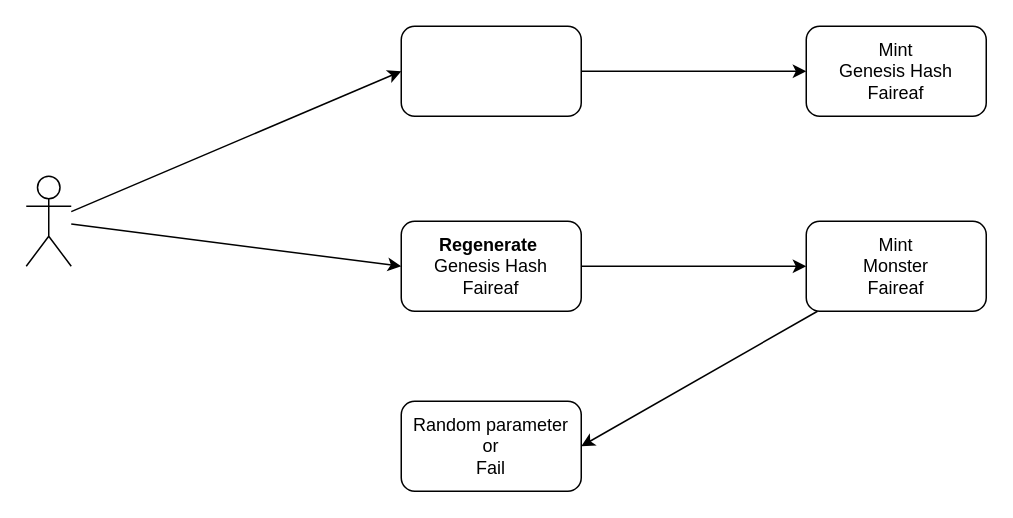
Image size: 1013x518. Some labels were removed from this diagram. Each missing label, with the centre of its shape:
"Actor" goes at pixel 48 220.
"Buy Genesis Box Group A" goes at pixel 490 70.
